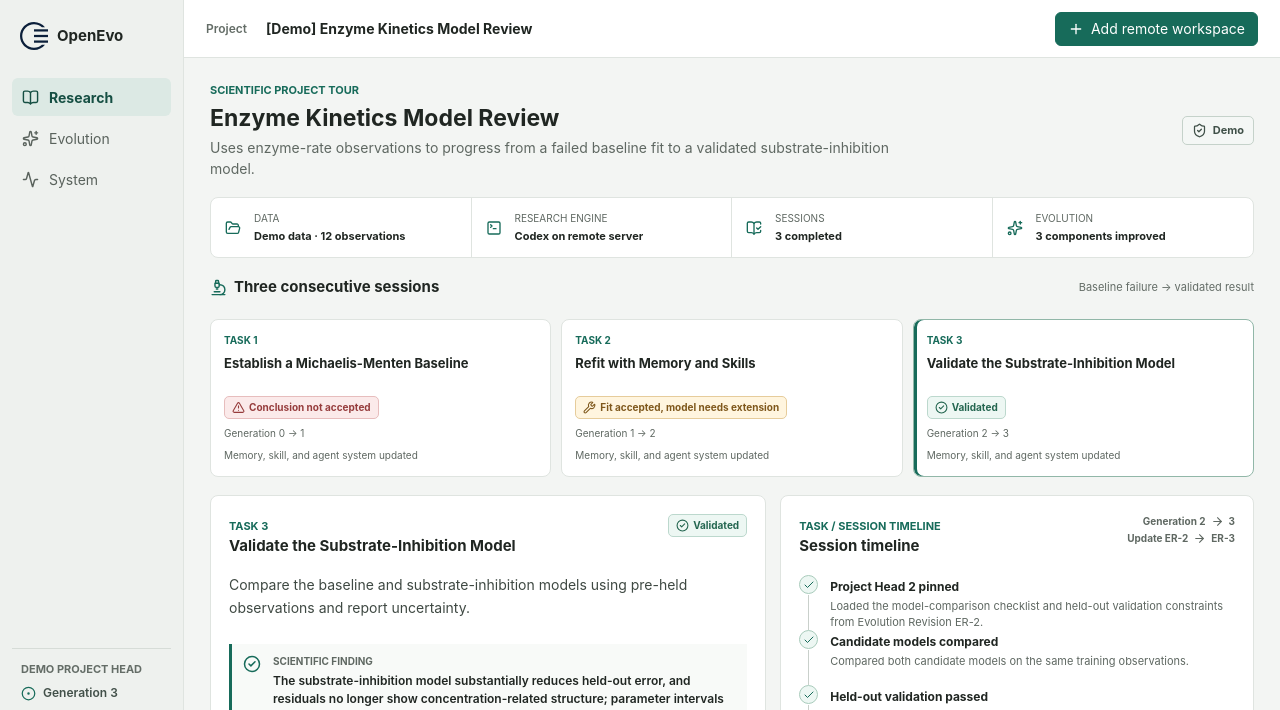
Scenario: Desktop v2 product renderer › opens configured-host setup immediately and never renders manual connection fields
This screenshot has width=1280, height=710.
Step 1. Click the button "Add remote workspace" → (1156, 28), box [1055,12,1258,46]
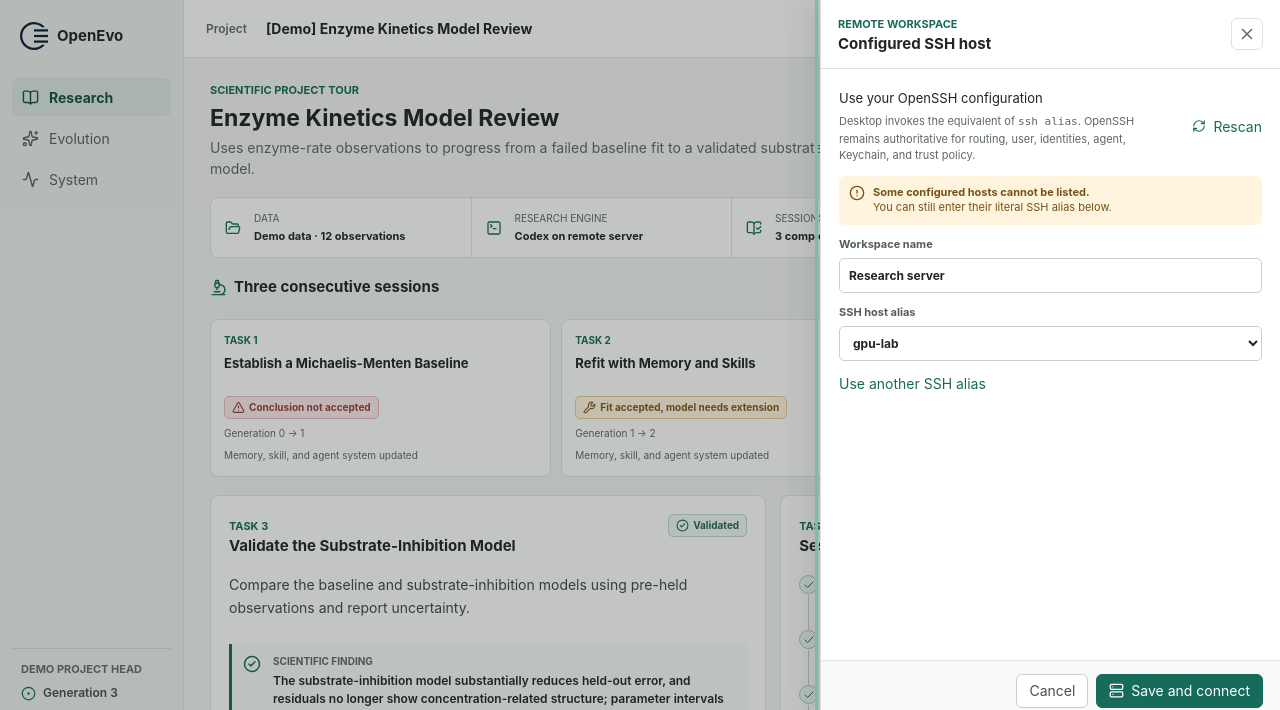
Check: the dialog shows "Configured SSH host", box [838,34,991,53]
Check: the dialog shows "Some configured hosts cannot be listed", box [873,184,1090,198]
Check: the button "Use another SSH alias" is shown, box [839,370,986,398]
